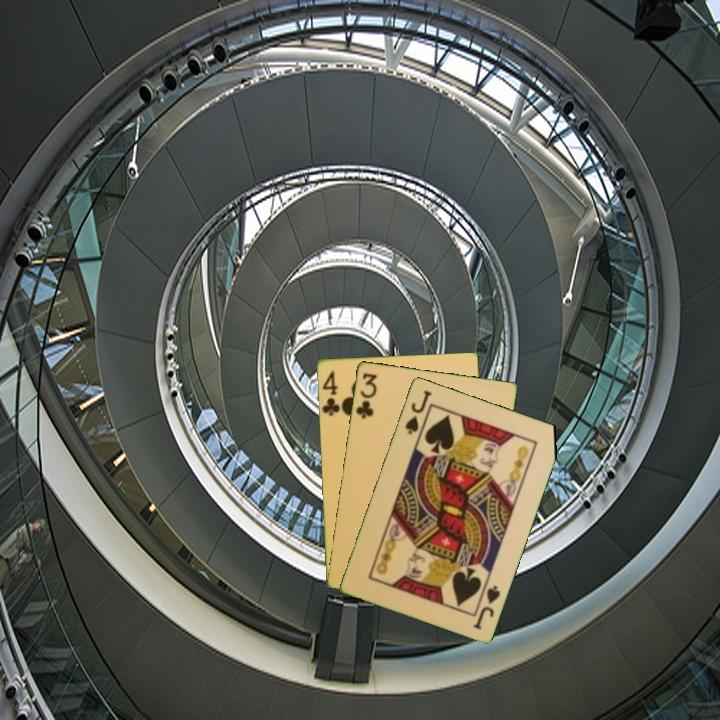3c: (352, 369, 380, 421)
4c: (319, 367, 344, 418)
Js: (469, 582, 503, 632), (401, 386, 434, 437)
